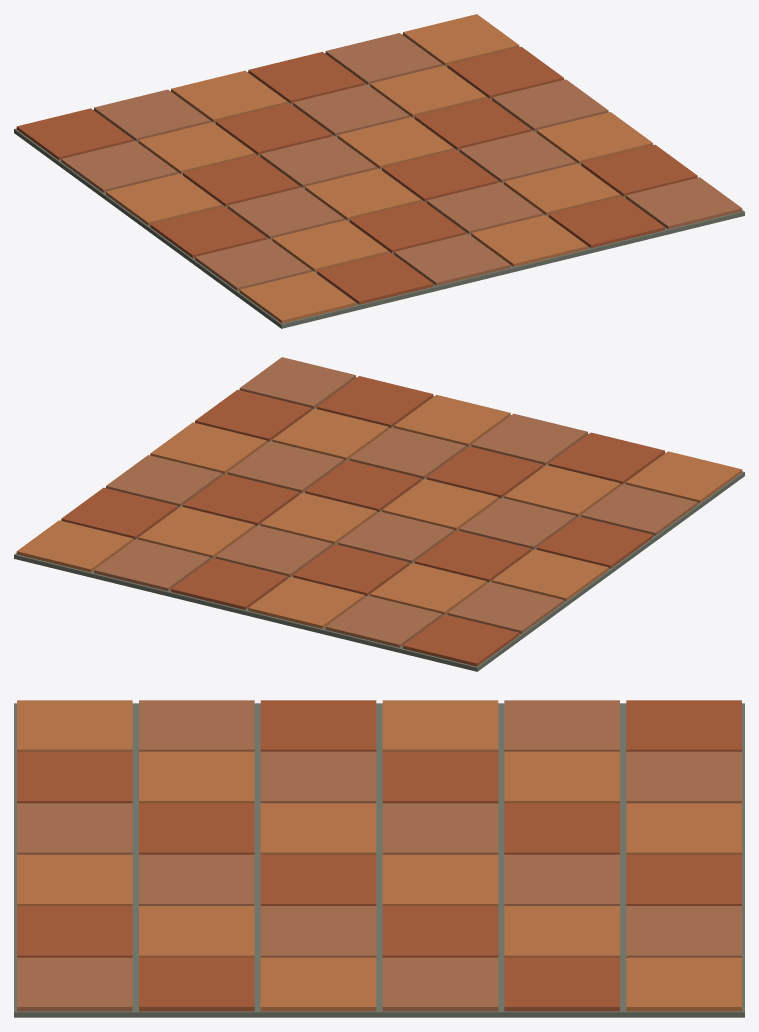
The model's file is LV_SAN_GACH_01.glb.
3 views of the same model, one above another, from view 1: azimuth 30°, elevation 25°; view 2: azimuth 150°, elevation 25°; view 3: azimuth 270°, elevation 25° (orthographic). The views are drawn at different scales.
Visible parts, largest first — view 1: LV_SAN_GACH_01-surface-af5e39, LV_SAN_GACH_01-surface-b37452, LV_SAN_GACH_01-surface-c57b49, LV_SAN_GACH_01-surface-797e70; view 2: LV_SAN_GACH_01-surface-b37452, LV_SAN_GACH_01-surface-c57b49, LV_SAN_GACH_01-surface-af5e39, LV_SAN_GACH_01-surface-797e70; view 3: LV_SAN_GACH_01-surface-c57b49, LV_SAN_GACH_01-surface-b37452, LV_SAN_GACH_01-surface-af5e39, LV_SAN_GACH_01-surface-797e70.
Part boxes in pixels (x1,y1,x2,y2): LV_SAN_GACH_01-surface-af5e39: (16, 46, 697, 304); LV_SAN_GACH_01-surface-b37452: (61, 33, 742, 290); LV_SAN_GACH_01-surface-c57b49: (106, 14, 652, 323); LV_SAN_GACH_01-surface-797e70: (14, 34, 744, 328); LV_SAN_GACH_01-surface-b37452: (94, 357, 697, 647); LV_SAN_GACH_01-surface-c57b49: (16, 395, 742, 628); LV_SAN_GACH_01-surface-af5e39: (61, 376, 664, 666); LV_SAN_GACH_01-surface-797e70: (14, 377, 744, 671); LV_SAN_GACH_01-surface-c57b49: (17, 700, 741, 1011); LV_SAN_GACH_01-surface-b37452: (17, 700, 741, 1011); LV_SAN_GACH_01-surface-af5e39: (17, 700, 741, 1011); LV_SAN_GACH_01-surface-797e70: (14, 703, 744, 1017).
Bounding box in the file's own units: 3 × 0.044 × 3.
